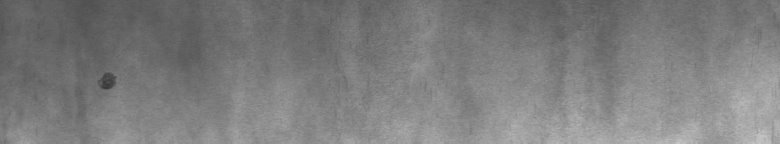fi: (96, 66, 122, 96)
